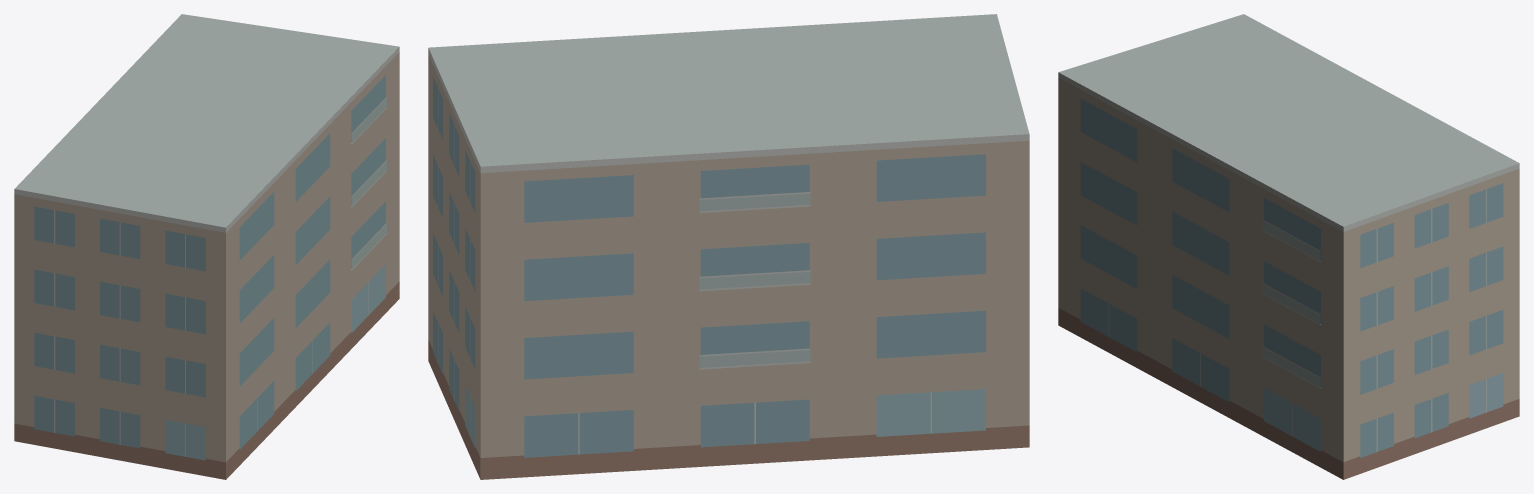
Rendered from survey-upis-33014256.glb.
3 renders of one model, left to right at view 1: azimuth 30°, elevation 25°; view 2: azimuth 150°, elevation 25°; view 3: azimuth 270°, elevation 25°, orthographic. The views are drawn at different scales.
Parts seen in each view (by area): view 1: survey-upis-33014256.tmp; view 2: survey-upis-33014256.tmp; view 3: survey-upis-33014256.tmp.
Part boxes in pixels (<box>): survey-upis-33014256.tmp: <box>14,14,399,479</box>; survey-upis-33014256.tmp: <box>428,14,1029,479</box>; survey-upis-33014256.tmp: <box>1058,14,1519,479</box>.
Size of the model in its own units: 21.29 by 11.8 by 19.51.
